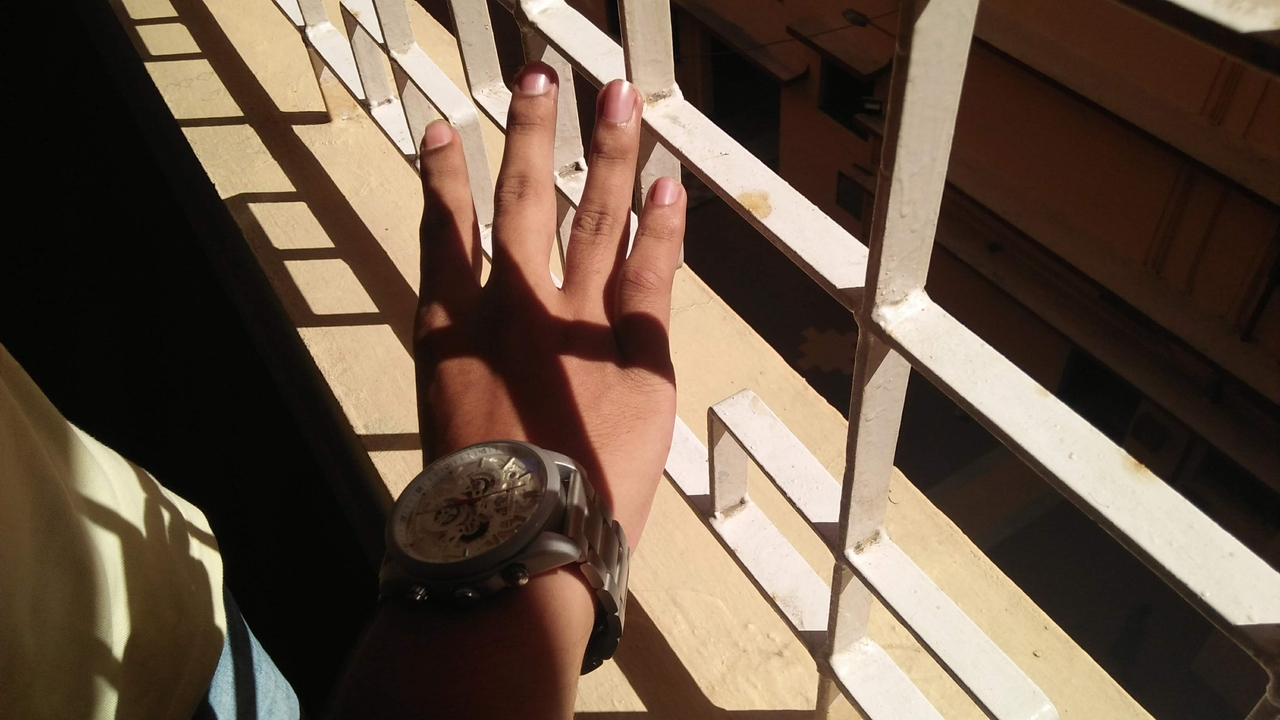fingertip: (586, 72, 648, 132), (636, 164, 694, 226), (406, 108, 464, 156), (510, 56, 562, 106)
